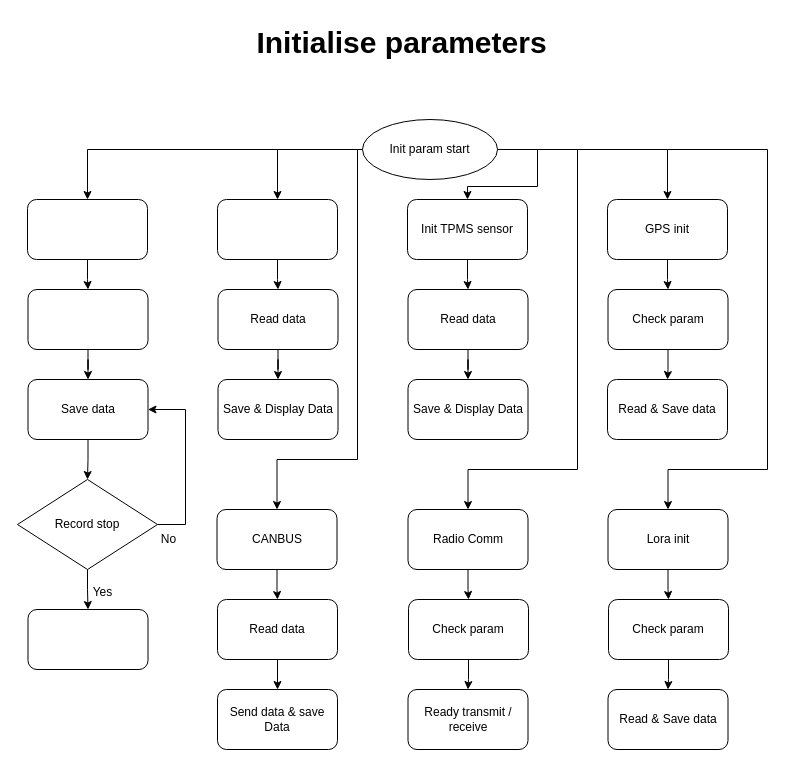
Some shapes in this 793 by 767 pixel diagram are drawn without their labels. Here are the shapes that lost their labels. From the top down, the centre of each, then its label:
At (87,229): "Create new file".
At (277,229): "Init IMU".
At (87,319): "Create Header".
At (87,639): "Ready for new race".
